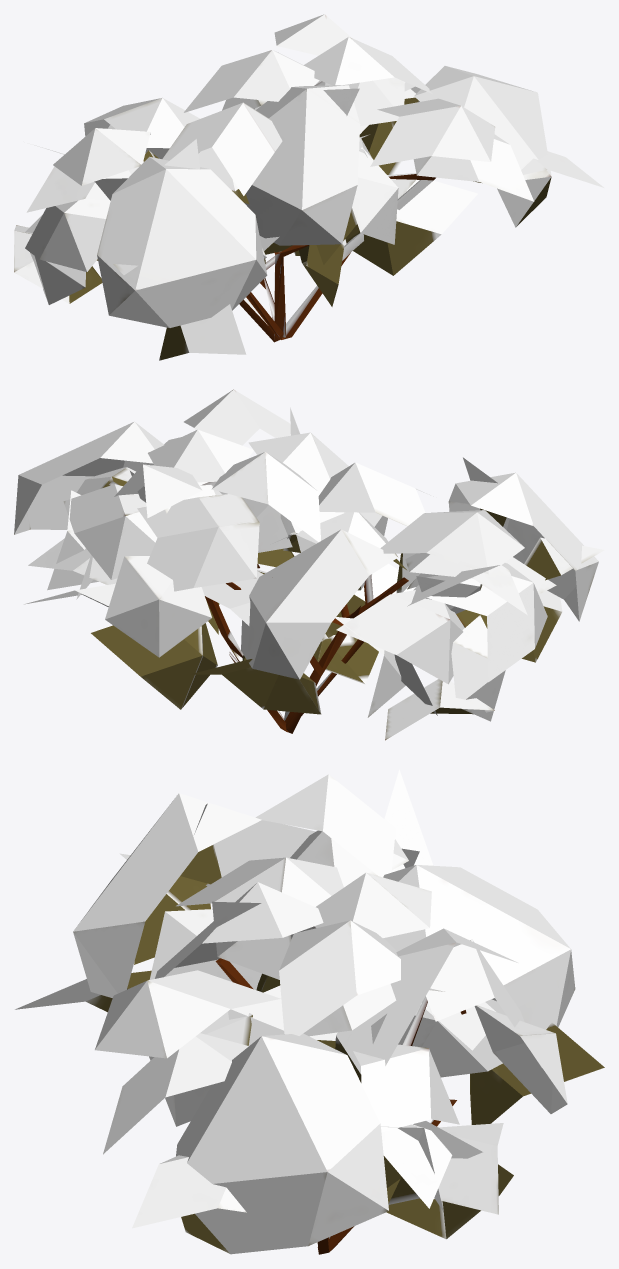
File: bush_big.glb
3 renders of one model, top to bottom at view 1: azimuth 30°, elevation 25°; view 2: azimuth 150°, elevation 25°; view 3: azimuth 270°, elevation 25°, orthographic. The views are drawn at different scales.
Visible parts, largest first — view 1: Bush_0.001; view 2: Bush_0.001; view 3: Bush_0.001.
Part boxes in pixels (bbox=[...]): Bush_0.001: bbox=[14, 14, 603, 360]; Bush_0.001: bbox=[14, 389, 604, 740]; Bush_0.001: bbox=[15, 769, 604, 1254].
Size of the model in its own units: 13.95 by 7.43 by 10.32.
Materials: 1 (1 with a texture image).
